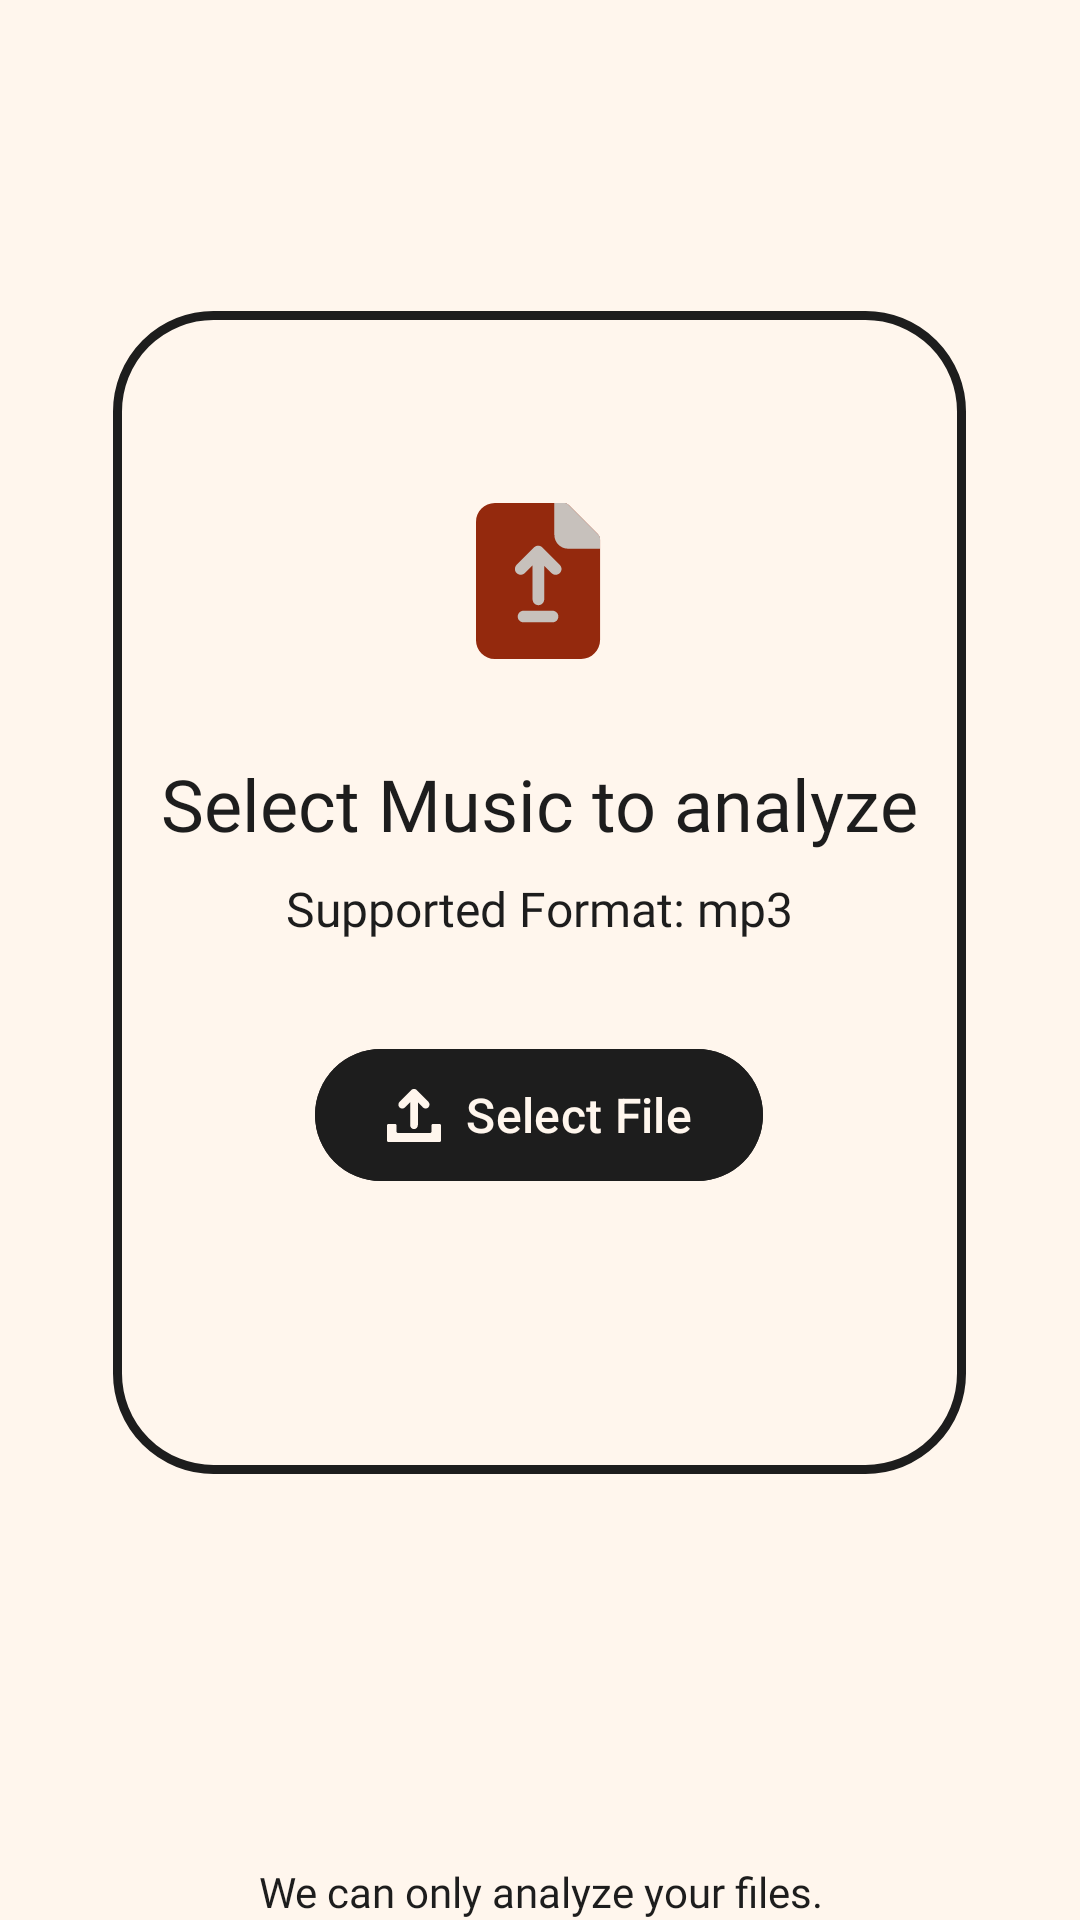

Locate icon controls on the screen. Image size 1080px x 1920px, boxes as (x1, y1, x2, y2).
file upload: (476, 503, 600, 659)
